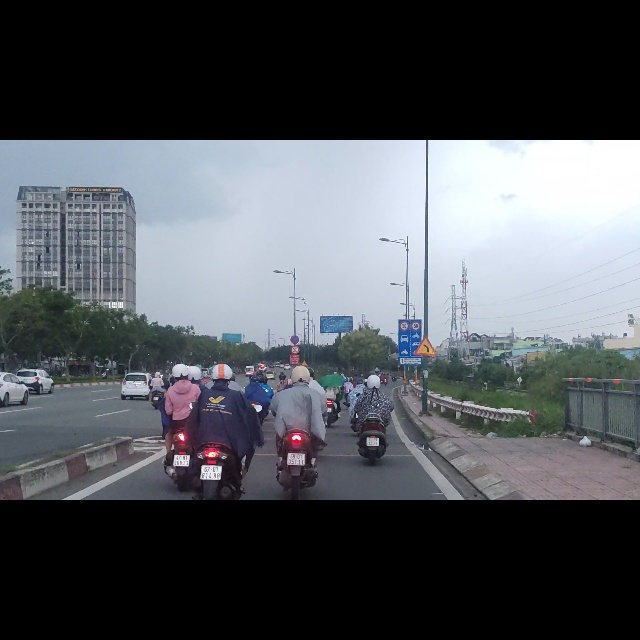bien_chi_dan: (414, 345, 437, 385), (399, 321, 409, 339), (411, 321, 420, 340), (290, 364, 300, 381), (289, 347, 299, 363), (301, 390, 308, 402)
